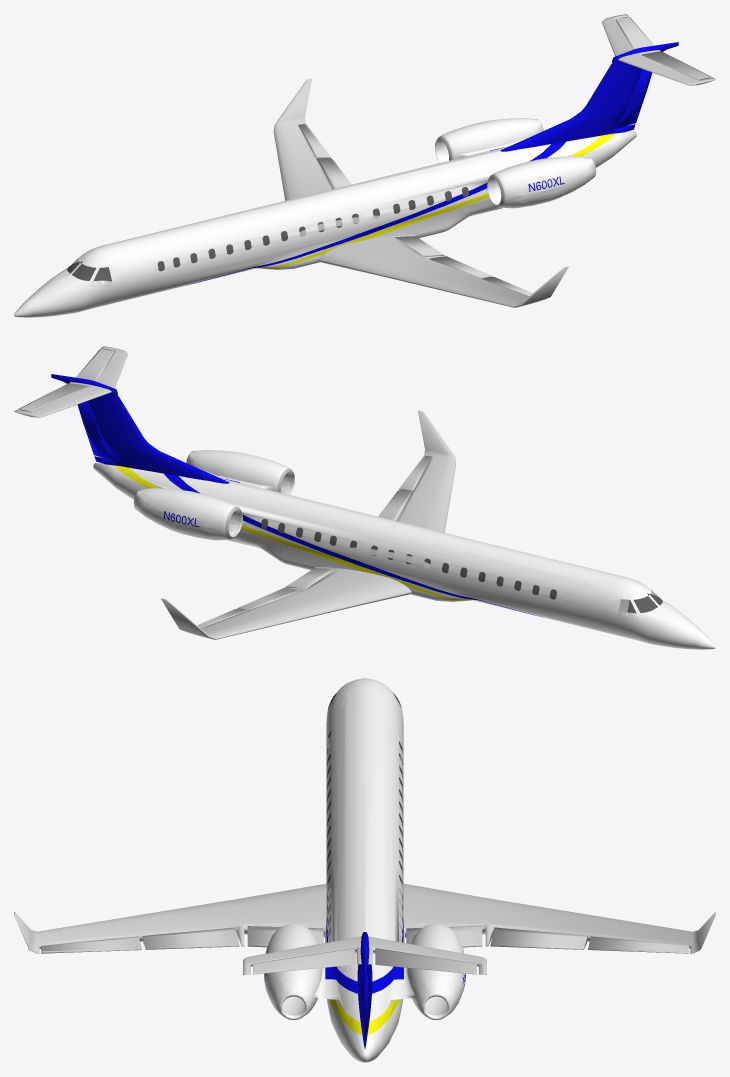
File: Business_jet.glb
3 renders of one model, top to bottom at view 1: azimuth 30°, elevation 25°; view 2: azimuth 150°, elevation 25°; view 3: azimuth 270°, elevation 25°, orthographic. The views are drawn at different scales.
Visible parts, largest first — view 1: Material2 (×3), Material3 (×3); view 2: Material2 (×3), Material3 (×3); view 3: Material3 (×3), Material2 (×2).
Part boxes in pixels (x1,y1,x2,y2): Material2 (×3): (14,118,636,317); Material3 (×3): (187,14,715,307); Material2 (×3): (93,450,715,649); Material3 (×3): (14,346,542,639); Material3 (×3): (14,883,715,1048); Material2 (×2): (264,678,465,1062).
Size of the model in its own units: 1174 by 218 by 787.
